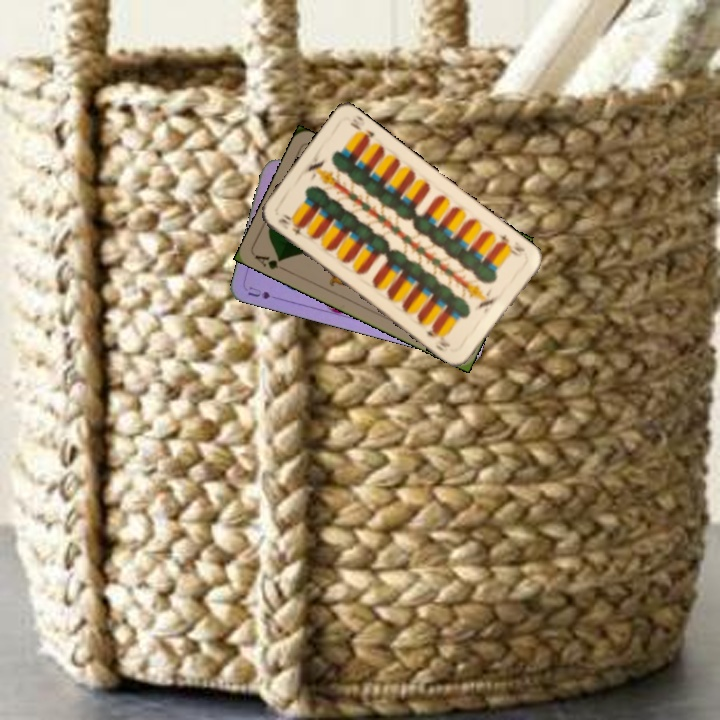E10: (494, 230, 527, 259), (274, 214, 306, 238)
GA: (251, 251, 290, 274)
SU: (244, 282, 284, 303)
